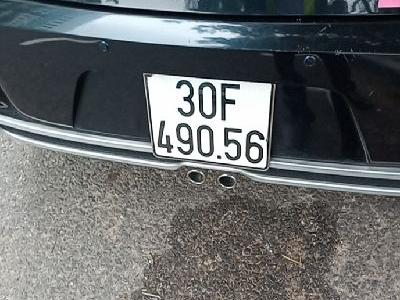lisence: (143, 72, 276, 172)
